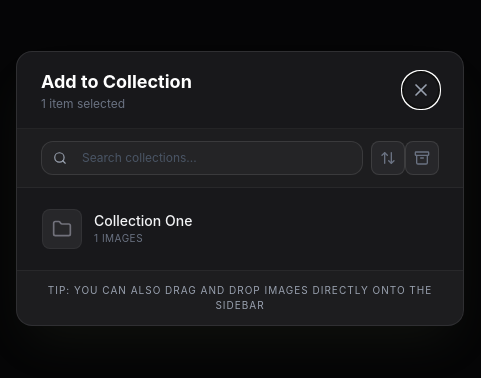
Test: AddToCollectionModal thumbnail hydration states › hides archived collections until requested
The width and height of the screenshot is (481, 378).
Expected: the text "Archived Set" is not shown
Click the button named "Show Archived Collections": (422, 158) [405,140,439,174]
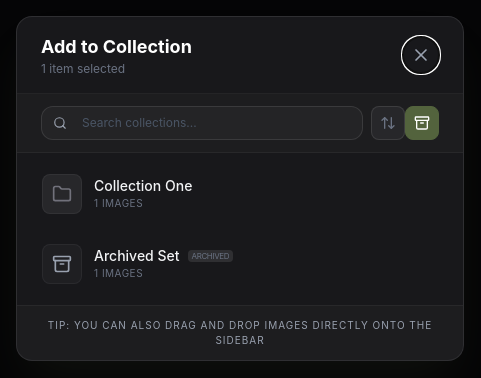
Result: the text "Archived Set" is shown at [94,246,180,266]
Result: the text "Archived" is shown at [188,250,233,262]
Click the button named "Hide Archived Collections": (422, 122) [405,106,439,140]
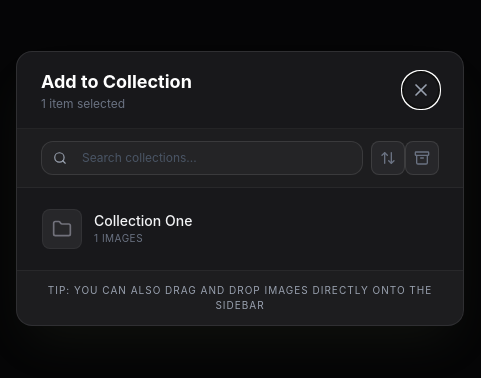
Result: the button "Archived Set" is gone
